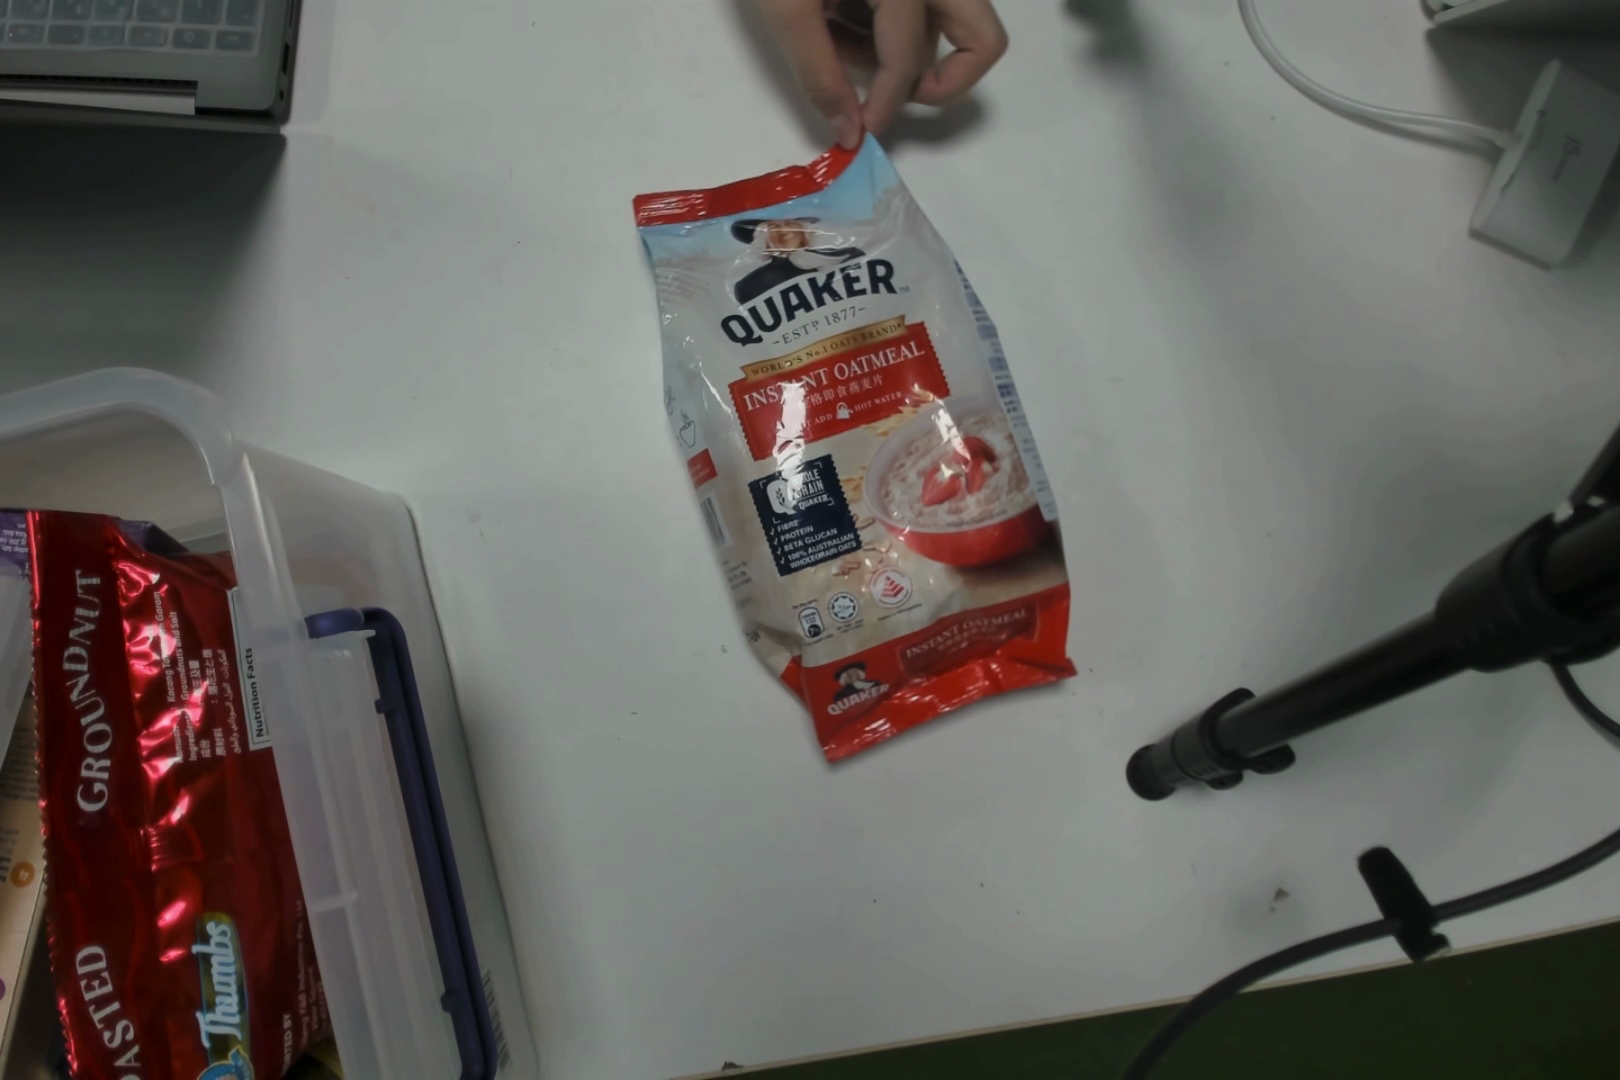RolledOatsInstantOatmeal_400-499g_Halal_Healthy: (683, 169, 1097, 753)
